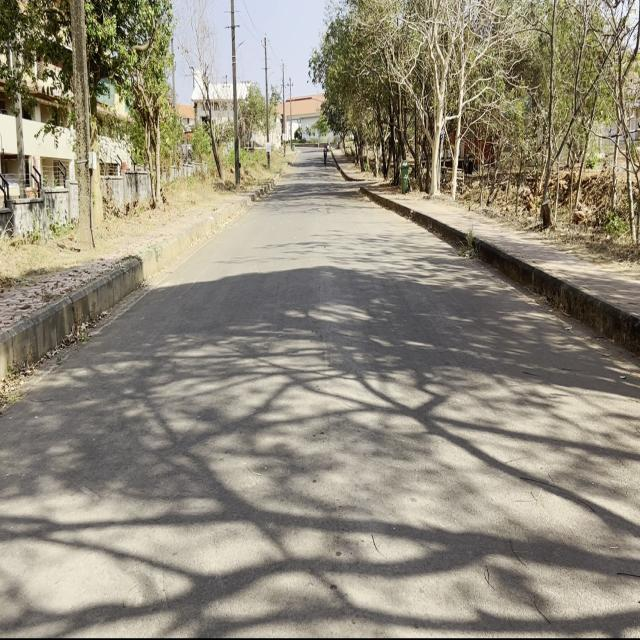Road: (4, 160, 635, 633)
